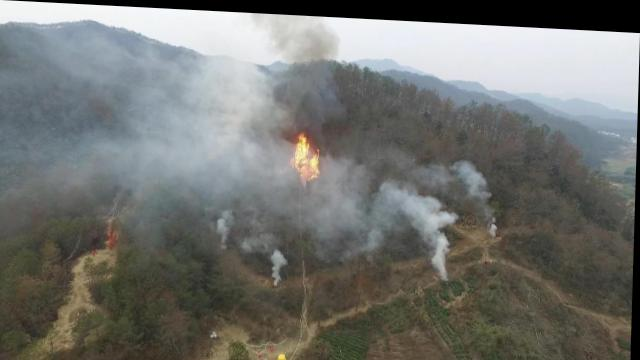fire: (274, 119, 351, 187)
